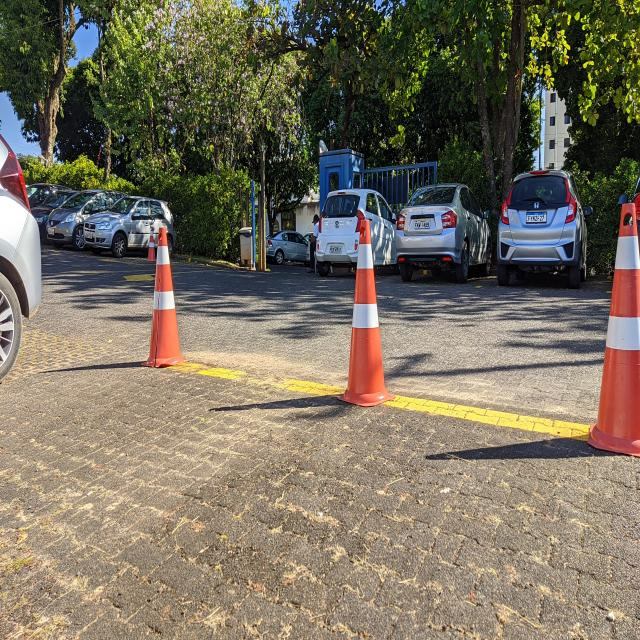cone: (586, 198, 640, 460), (336, 216, 396, 410), (138, 223, 188, 371), (145, 226, 157, 264)
